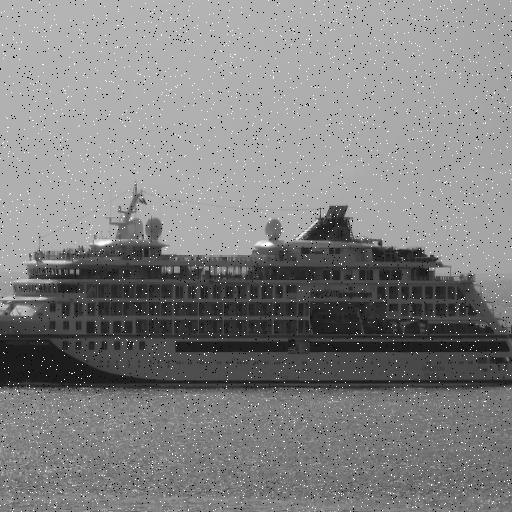cruises: (1, 177, 512, 394)
